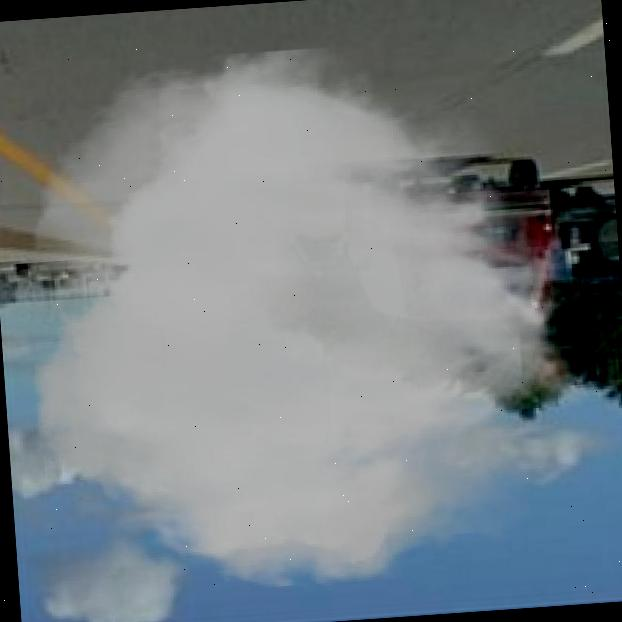smoke: (10, 30, 604, 610)
